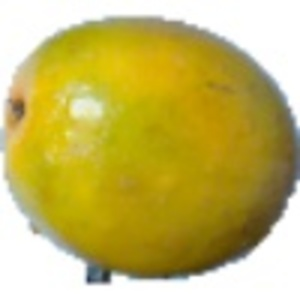maracujá: (1, 16, 300, 286)
